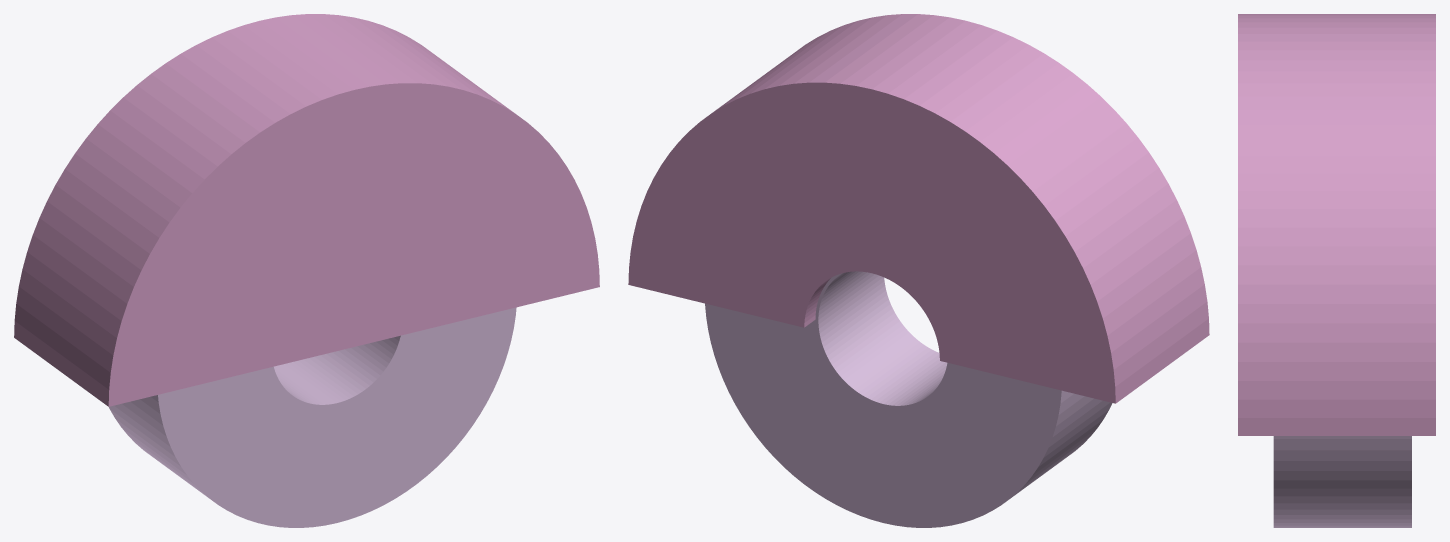
File: bearing_seat_demo.glb
3 renders of one model, left to right at view 1: azimuth 30°, elevation 25°; view 2: azimuth 150°, elevation 25°; view 3: azimuth 270°, elevation 25°, orthographic. The views are drawn at different scales.
Visible parts, largest first — view 1: seat_cutaway, 608_reference; view 2: seat_cutaway, 608_reference; view 3: seat_cutaway, 608_reference.
Part boxes in pixels (<box>): seat_cutaway: <box>14,14,599,406</box>; 608_reference: <box>109,307,516,527</box>; seat_cutaway: <box>628,14,1209,403</box>; 608_reference: <box>705,271,1112,527</box>; seat_cutaway: <box>1238,14,1435,435</box>; 608_reference: <box>1273,436,1411,527</box>.
Bounding box in the file's own units: 30 × 26 × 10.
